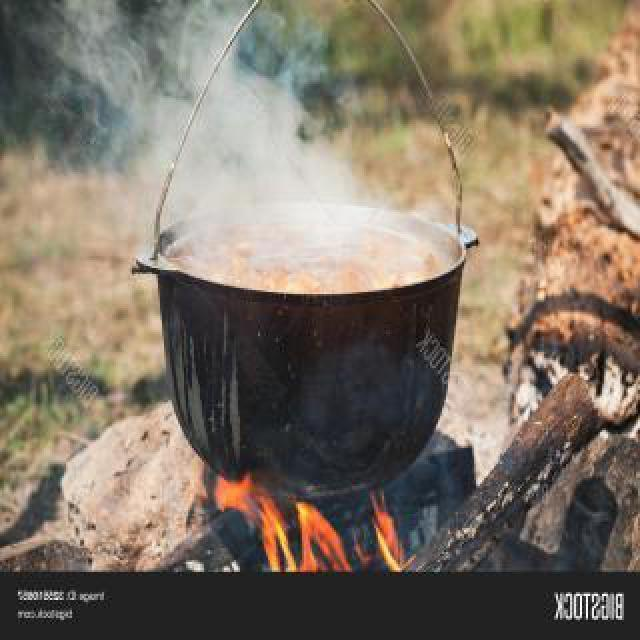Fire: (204, 474, 412, 600)
Smoke: (31, 0, 377, 232)
